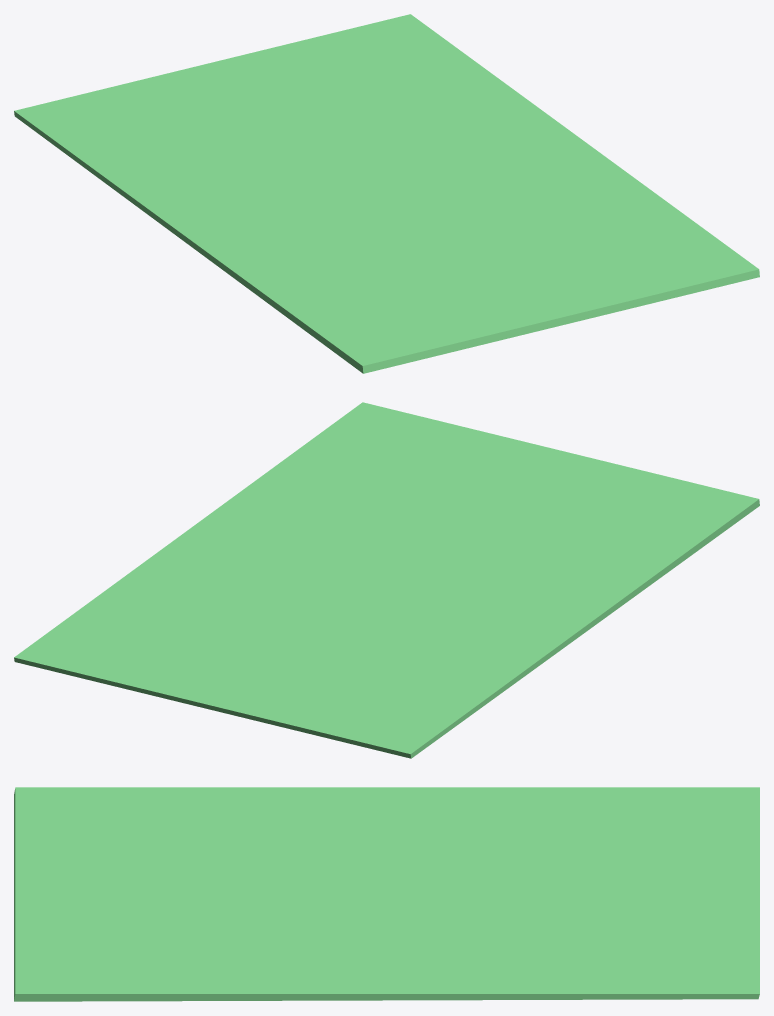
The model's file is Pinball_Board.fbx.
3 renders of one model, top to bottom at view 1: azimuth 30°, elevation 25°; view 2: azimuth 150°, elevation 25°; view 3: azimuth 270°, elevation 25°, orthographic. The views are drawn at different scales.
Parts seen in each view (by area): view 1: Pinball_Board.001; view 2: Pinball_Board.001; view 3: Pinball_Board.001.
Part boxes in pixels (x1=…): Pinball_Board.001: x1=14, y1=14, x2=759, y2=373; Pinball_Board.001: x1=14, y1=402, x2=759, y2=758; Pinball_Board.001: x1=14, y1=787, x2=759, y2=1001.
Size of the model in its own units: 660 by 11.62 by 1007.
